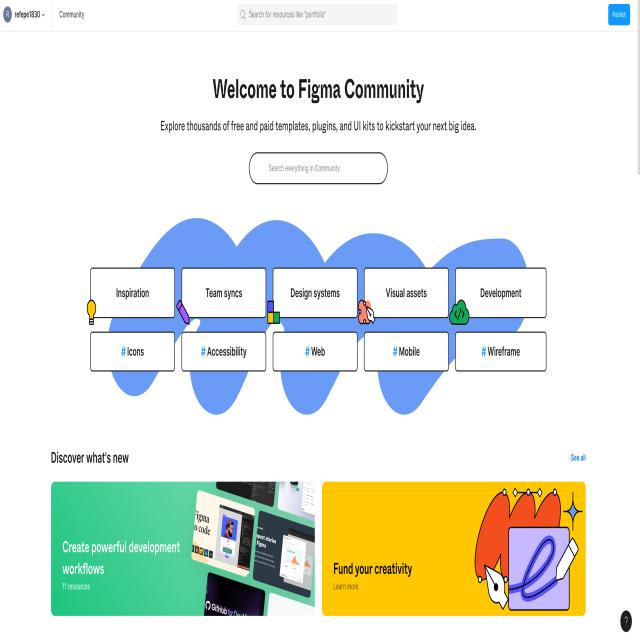button: (84, 262, 178, 322), (179, 261, 269, 323), (273, 261, 359, 324), (456, 265, 548, 321), (364, 265, 451, 323), (455, 330, 548, 374), (272, 329, 359, 375), (362, 329, 450, 374), (180, 330, 267, 374), (88, 330, 176, 372), (606, 1, 632, 29), (618, 608, 634, 634), (569, 450, 588, 465)
dropdown: (2, 4, 46, 24)
image: (320, 478, 588, 622), (50, 480, 317, 620)
input field: (246, 148, 390, 188), (236, 3, 400, 27)
text: (210, 75, 426, 107), (158, 116, 478, 134), (50, 447, 130, 468), (58, 9, 85, 21)
